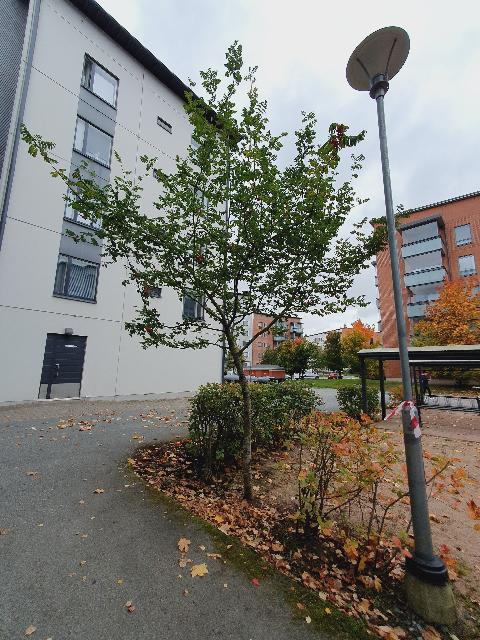rowan: (15, 34, 417, 506)
